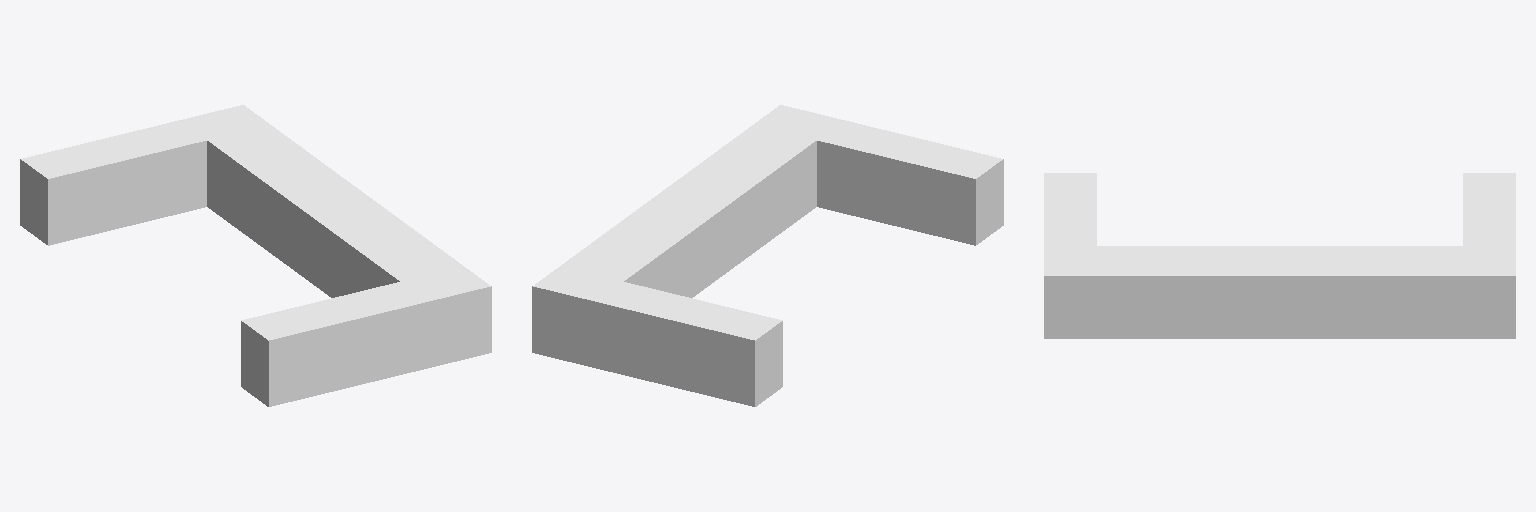
URDF robot description (handle):
<?xml version="0.0" ?>
<!--
  ~ Copyright 2020 Google LLC
  ~
  ~ Licensed under the Apache License, Version 2.0 (the "License");
  ~ you may not use this file except in compliance with the License.
  ~ You may obtain a copy of the License at
  ~
  ~     https://www.apache.org/licenses/LICENSE-2.0
  ~
  ~ Unless required by applicable law or agreed to in writing, software
  ~ distributed under the License is distributed on an "AS IS" BASIS,
  ~ WITHOUT WARRANTIES OR CONDITIONS OF ANY KIND, either express or implied.
  ~ See the License for the specific language governing permissions and
  ~ limitations under the License.
  -->

<robot name="handle">
    <link name="root">
        <origin xyz="0 0 0"/>
        <inertial>
            <origin rpy="0 0 0" xyz="0.075 0.0 0.02"/>
            <mass value="10.0"/>
            <inertia ixx="1" ixy="0" ixz="0" iyy="1" iyz="0" izz="1"/>
        </inertial>
    </link>
    <link name="handleBody">
        <inertial>
            <origin rpy="0 0 0" xyz="0.12 0.0 0.02"/>
            <mass value="0.5"/>
            <inertia ixx="1" ixy="0" ixz="0" iyy="1" iyz="0" izz="1"/>
        </inertial>
        <visual>
            <origin rpy="0 0 0" xyz="0.12 0.0 0.02"/>
            <geometry>
                <box size="0.04 0.21 0.04"/>
            </geometry>
            <material name="white">
                <color rgba="1 1 1 1"/>
            </material>
        </visual>
        <collision>
            <origin rpy="0 0 0" xyz="0.12 0.0 0.02"/>
            <geometry>
                <box size="0.04 0.21 0.04"/>
            </geometry>
        </collision>
    </link>
    <link name="handleLeft">
        <inertial>
            <origin rpy="0 0 0" xyz="0.07 0.12 0.02"/>
            <mass value="0.5"/>
            <inertia ixx="1" ixy="0" ixz="0" iyy="1" iyz="0" izz="1"/>
        </inertial>
        <visual>
            <origin rpy="0 0 0" xyz="0.07 0.12 0.02"/>
            <geometry>
                <box size="0.14 0.03 0.04"/>
            </geometry>
            <material name="white">
                <color rgba="1 1 1 1"/>
            </material>
        </visual>
        <collision>
            <origin rpy="0 0 0" xyz="0.07 0.12 0.02"/>
            <geometry>
                <box size="0.14 0.03 0.04"/>
            </geometry>
        </collision>
    </link>
    <link name="handleRight">
        <inertial>
            <origin rpy="0 0 0" xyz="0.07 -0.12 0.02"/>
            <mass value="0.5"/>
            <inertia ixx="1" ixy="0" ixz="0" iyy="1" iyz="0" izz="1"/>
        </inertial>
        <visual>
            <origin rpy="0 0 0" xyz="0.07 -0.12 0.02"/>
            <geometry>
                <box size="0.14 0.03 0.04"/>
            </geometry>
            <material name="white">
                <color rgba="1 1 1 1"/>
            </material>
        </visual>
        <collision>
            <origin rpy="0 0 0" xyz="0.07 -0.12 0.02"/>
            <geometry>
                <box size="0.14 0.03 0.04"/>
            </geometry>
        </collision>
    </link>
    <joint name="root" type="fixed">
        <parent link="root"/>
        <child link="handleBody"/>
        <origin rpy="0 0 0" xyz="-0.145 0.0 0.0"/>
    </joint>
    <joint name="bodyLeft" type="fixed">
        <parent link="handleBody"/>
        <child link="handleLeft"/>
        <origin xyz="0.0 0.0 0.0"/>
    </joint>
    <joint name="bodyRight" type="fixed">
        <parent link="handleBody"/>
        <child link="handleRight"/>
        <origin xyz="0.0 0.0 0.0"/>
    </joint>
</robot>

--- Facts derived from the render (not from the file) ---
Views: 3 orthographic renders of the robot side by side, from view 1: azimuth 30°, elevation 25°; view 2: azimuth 150°, elevation 25°; view 3: azimuth 270°, elevation 25°.
Model handle with 4 links and 3 joints (3 fixed), rooted at root, posed all joints at 0.
Links seen in each view (by area): view 1: handleRight, handleBody, handleLeft; view 2: handleLeft, handleBody, handleRight; view 3: handleBody, handleLeft, handleRight.
Boxes of the visible links, x1,y1,x2,y2 form: handleRight: (241, 266, 491, 406); handleBody: (207, 125, 462, 297); handleLeft: (20, 105, 269, 245); handleLeft: (532, 266, 782, 406); handleBody: (561, 125, 816, 297); handleRight: (754, 105, 1003, 245); handleBody: (1097, 246, 1462, 338); handleLeft: (1463, 173, 1515, 338); handleRight: (1044, 173, 1096, 338).
Size in the robot's own frame: 0.14 by 0.27 by 0.04 metres.
Geometry: primitives only (box / cylinder / sphere), no mesh files.